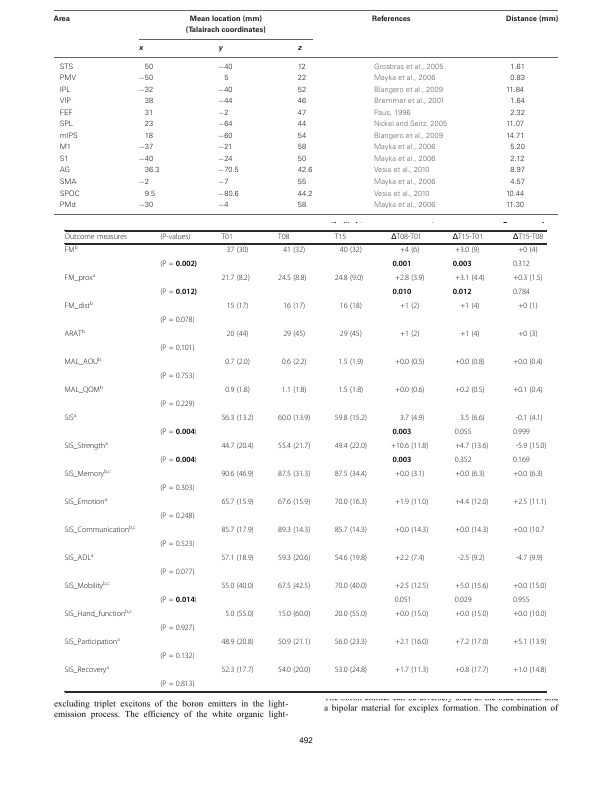borderless: (63, 228, 546, 691), (53, 9, 558, 214)
cell: (185, 15, 267, 35), (64, 524, 137, 535), (64, 608, 133, 619), (373, 120, 448, 129), (373, 98, 445, 107), (373, 63, 444, 72), (373, 86, 444, 95), (373, 132, 444, 141), (64, 636, 121, 647), (64, 233, 128, 242), (373, 155, 436, 164), (373, 178, 436, 187), (373, 201, 436, 210), (64, 468, 112, 479), (64, 580, 111, 591), (373, 167, 430, 176), (373, 190, 430, 199), (64, 664, 110, 675), (373, 75, 436, 83), (373, 144, 436, 152), (64, 440, 109, 451), (64, 496, 108, 507), (64, 384, 104, 395), (505, 15, 559, 23), (64, 356, 102, 367), (64, 272, 96, 283), (373, 109, 412, 118), (159, 260, 198, 269), (159, 288, 198, 297), (159, 428, 198, 437), (390, 442, 429, 451), (159, 456, 198, 465), (159, 596, 198, 605), (64, 300, 94, 311), (64, 552, 94, 563), (371, 15, 412, 23), (159, 316, 195, 325), (159, 344, 195, 353), (159, 372, 195, 381), (159, 400, 195, 409), (159, 484, 195, 493), (159, 512, 195, 521), (159, 540, 195, 549), (159, 568, 195, 577), (159, 624, 195, 633), (159, 652, 195, 661), (159, 680, 195, 689), (220, 414, 255, 423), (220, 442, 255, 451), (454, 442, 489, 451), (220, 470, 255, 479), (220, 498, 255, 507), (394, 498, 429, 507), (454, 498, 489, 507), (512, 498, 547, 507), (220, 526, 255, 535), (394, 526, 429, 535), (454, 526, 489, 535), (220, 554, 255, 563), (220, 582, 255, 591), (394, 582, 429, 591), (454, 582, 489, 591), (512, 582, 547, 591), (394, 610, 429, 619), (454, 610, 489, 619), (512, 610, 547, 619), (220, 638, 255, 647), (394, 638, 429, 647), (454, 638, 489, 647), (512, 638, 547, 647), (220, 666, 255, 675), (394, 666, 429, 675), (454, 666, 489, 675), (512, 666, 547, 675), (277, 414, 311, 423), (334, 414, 368, 423), (277, 442, 311, 451), (334, 442, 368, 451), (277, 470, 311, 479), (334, 470, 368, 479), (277, 498, 311, 507), (334, 498, 368, 507), (277, 526, 311, 535), (334, 526, 368, 535), (277, 554, 311, 563), (334, 554, 368, 563), (277, 582, 311, 591), (334, 582, 368, 591), (277, 610, 311, 619), (334, 610, 368, 619), (277, 638, 311, 647), (334, 638, 368, 647), (277, 666, 311, 675), (334, 666, 368, 675), (390, 233, 423, 242), (512, 526, 545, 535), (159, 233, 191, 242), (452, 233, 484, 242), (512, 233, 544, 242), (454, 274, 486, 283), (512, 274, 544, 283), (454, 358, 486, 367), (512, 358, 544, 367), (454, 386, 486, 395), (512, 386, 544, 395), (515, 442, 547, 451), (454, 470, 486, 479), (512, 470, 544, 479), (220, 274, 251, 283), (394, 274, 425, 283), (394, 358, 425, 367), (394, 386, 425, 395), (394, 470, 425, 479), (394, 554, 425, 563), (224, 610, 255, 619), (277, 274, 307, 283), (334, 274, 364, 283), (515, 414, 544, 423), (457, 554, 486, 563), (515, 554, 544, 563), (224, 358, 251, 367), (337, 358, 364, 367), (224, 386, 251, 395), (337, 386, 364, 395), (459, 414, 486, 423), (64, 328, 86, 339), (454, 246, 480, 255), (281, 358, 307, 367), (281, 386, 307, 395), (399, 414, 425, 423), (282, 246, 306, 255), (339, 246, 363, 255), (282, 302, 306, 311), (339, 302, 363, 311), (282, 330, 306, 339), (339, 330, 363, 339), (217, 167, 240, 176), (217, 190, 240, 199), (226, 246, 249, 255), (226, 302, 249, 311), (226, 330, 249, 339), (59, 190, 81, 199), (399, 246, 420, 255), (517, 246, 538, 255), (399, 302, 420, 311), (459, 302, 480, 311), (517, 302, 538, 311), (399, 330, 420, 339), (459, 330, 480, 339), (517, 330, 538, 339), (505, 86, 525, 95), (505, 120, 525, 129), (59, 132, 79, 141), (505, 132, 525, 141), (505, 190, 525, 199), (505, 201, 525, 210), (391, 260, 412, 268), (391, 288, 412, 296), (391, 428, 412, 436), (391, 456, 412, 464), (64, 244, 79, 255), (59, 178, 77, 187), (59, 201, 77, 210), (512, 260, 530, 269), (512, 288, 530, 297), (454, 428, 472, 437), (512, 428, 530, 437), (454, 456, 472, 465), (512, 456, 530, 465), (394, 596, 412, 605), (454, 596, 472, 605), (512, 596, 530, 605), (452, 260, 472, 268), (452, 288, 472, 296), (217, 63, 234, 72), (509, 63, 526, 72), (217, 86, 234, 95), (217, 98, 234, 107), (509, 98, 526, 107), (509, 109, 526, 118), (217, 120, 234, 129), (217, 132, 234, 141), (217, 144, 234, 153), (217, 155, 234, 164), (509, 167, 526, 176), (509, 178, 526, 187), (52, 15, 71, 23), (59, 75, 77, 83), (138, 86, 154, 95), (138, 144, 154, 153), (138, 155, 154, 164), (509, 155, 525, 164), (144, 167, 160, 176), (297, 167, 313, 176), (297, 190, 313, 199), (138, 201, 154, 210), (64, 412, 77, 423), (509, 75, 526, 83), (509, 144, 526, 152), (59, 63, 74, 72), (59, 109, 74, 118), (59, 120, 74, 129), (138, 75, 154, 83), (220, 233, 234, 242), (59, 86, 72, 95), (59, 98, 72, 107), (59, 144, 72, 153), (277, 233, 290, 242), (334, 233, 347, 242), (217, 109, 229, 118), (59, 167, 71, 176), (138, 178, 150, 187), (217, 178, 229, 187), (144, 190, 156, 199), (217, 201, 229, 210), (144, 63, 154, 72), (297, 63, 307, 72), (297, 86, 307, 95), (144, 98, 154, 107), (297, 98, 307, 107), (144, 109, 154, 118), (297, 109, 307, 118), (144, 120, 154, 129), (297, 120, 307, 129), (144, 132, 154, 141), (297, 132, 307, 141), (297, 144, 307, 153), (59, 155, 69, 164), (297, 155, 307, 164), (297, 178, 307, 187), (297, 201, 307, 210), (297, 75, 307, 83), (223, 75, 229, 83), (138, 46, 144, 53), (217, 46, 223, 53), (297, 46, 302, 53)
